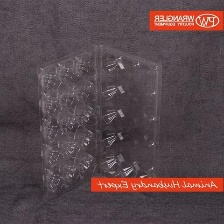plastic_box: (30, 37, 170, 209)
